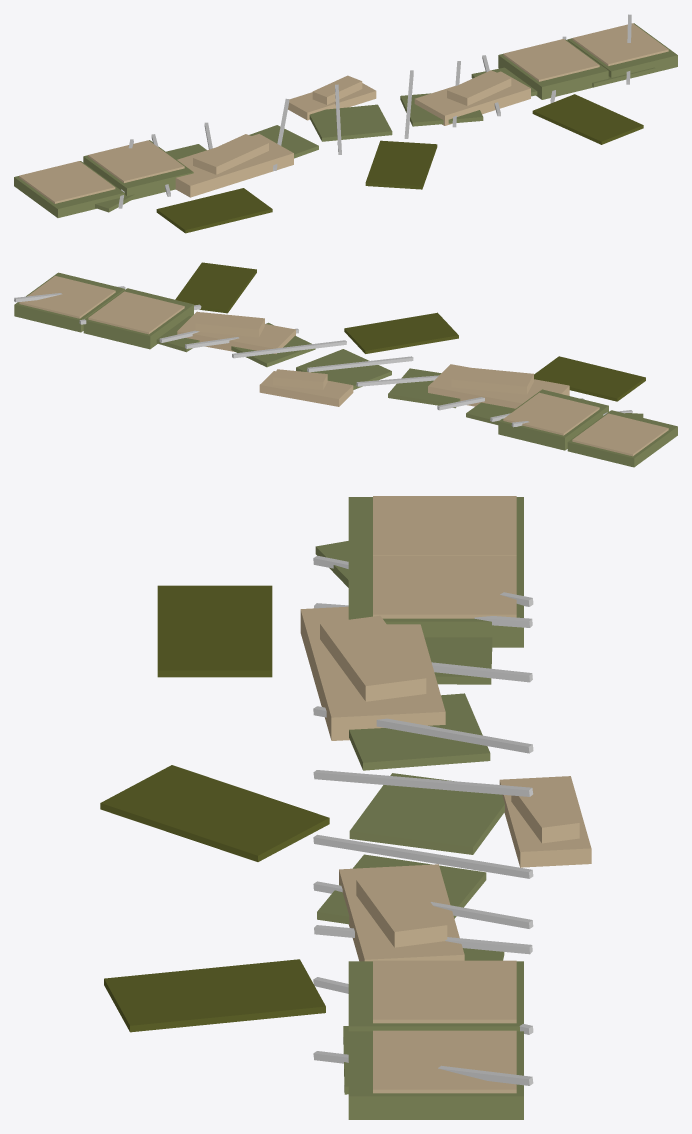
Rendered from SM_MuroHesco_v4_Red_e3_Brecha_LOD0.fbx.
3 renders of one model, top to bottom at view 1: azimuth 30°, elevation 25°; view 2: azimuth 150°, elevation 25°; view 3: azimuth 270°, elevation 25°, orthographic. The views are drawn at different scales.
Visible parts, largest first — view 1: SM_bloques.muro_hesco_estados_v19_LOD0; view 2: SM_bloques.muro_hesco_estados_v19_LOD0; view 3: SM_bloques.muro_hesco_estados_v19_LOD0.
Part boxes in pixels (x1=…): SM_bloques.muro_hesco_estados_v19_LOD0: x1=14, y1=14, x2=677, y2=233; SM_bloques.muro_hesco_estados_v19_LOD0: x1=14, y1=262, x2=677, y2=467; SM_bloques.muro_hesco_estados_v19_LOD0: x1=100, y1=496, x2=591, y2=1119.
Size of the model in its own units: 9.96 by 0.3263 by 3.42.
